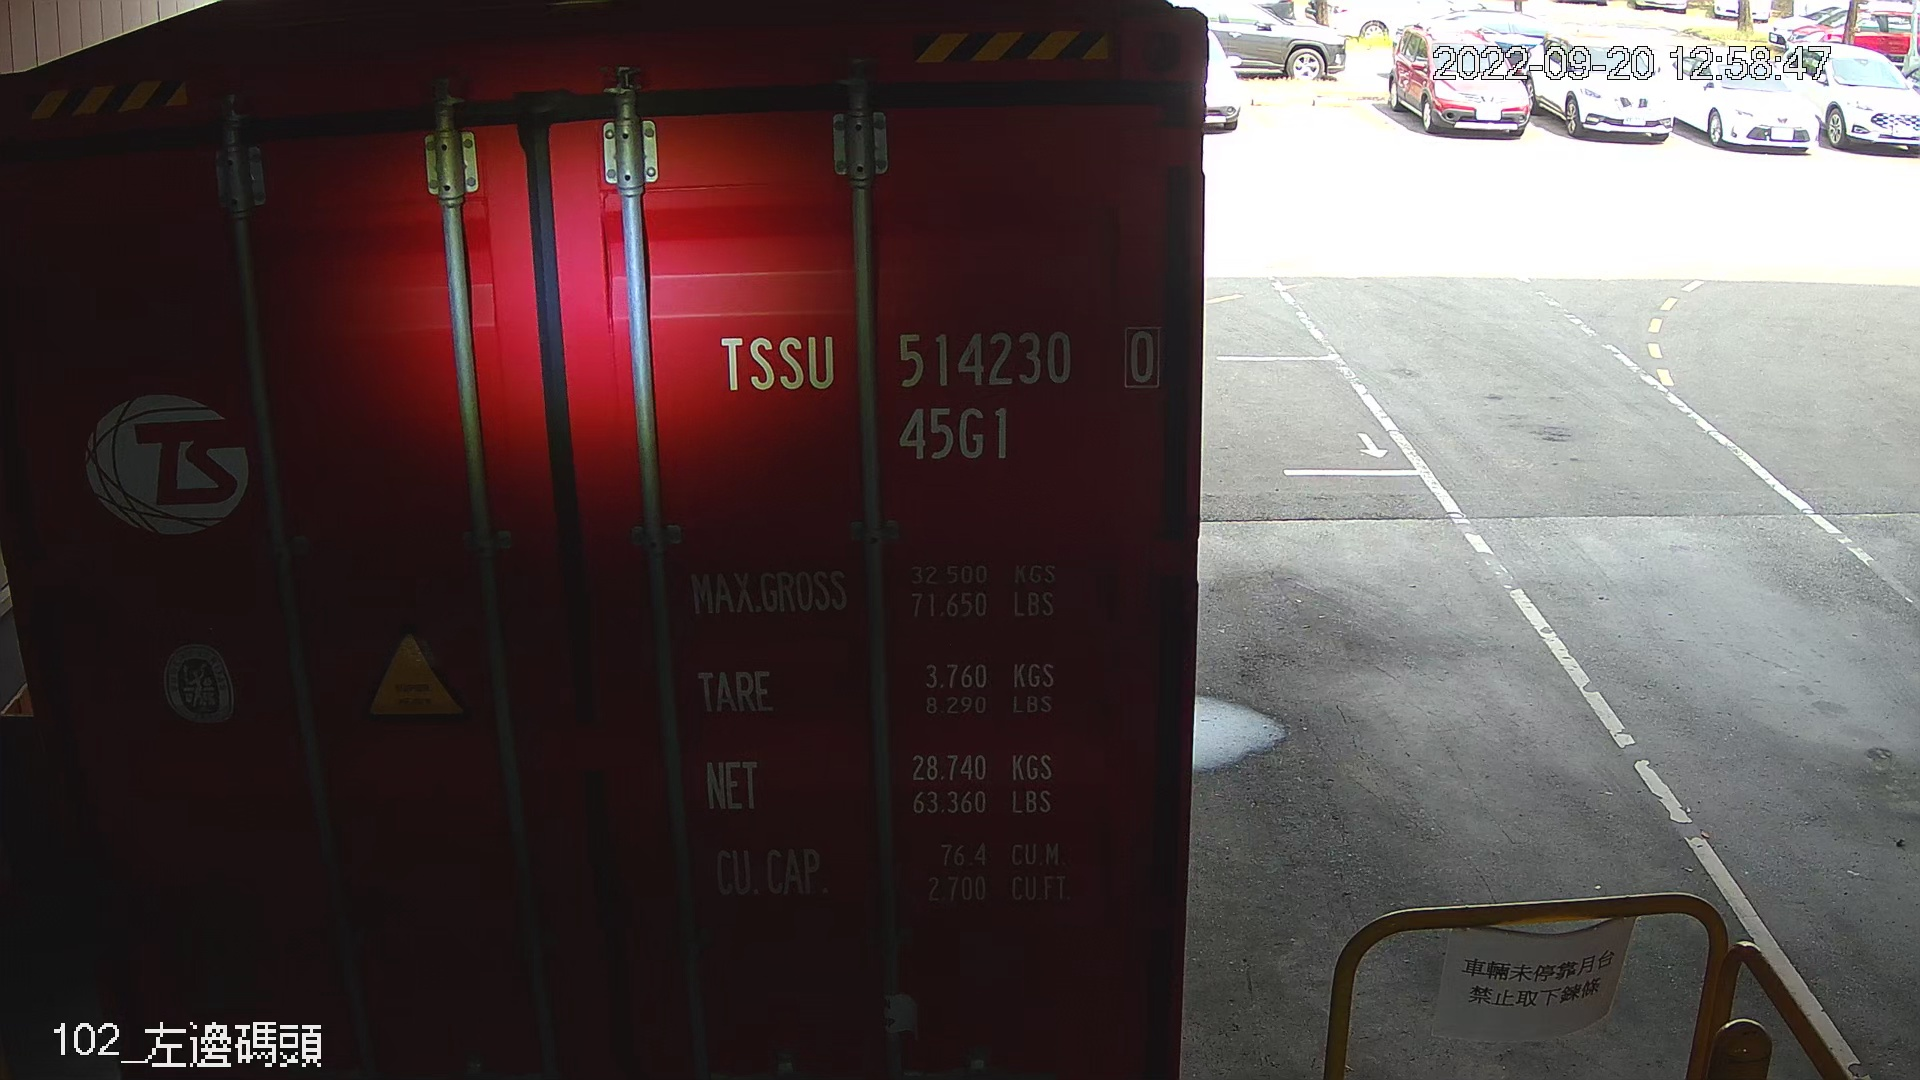container: (698, 316, 1179, 472)
